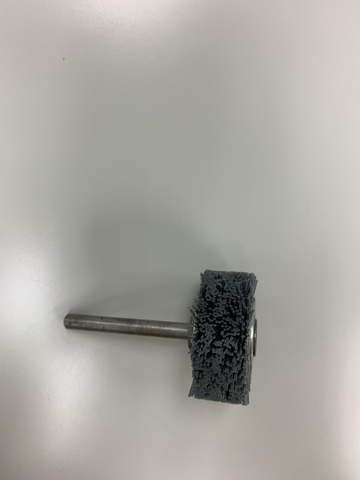Wheel Brush: (61, 267, 259, 407), (118, 259, 269, 413)
